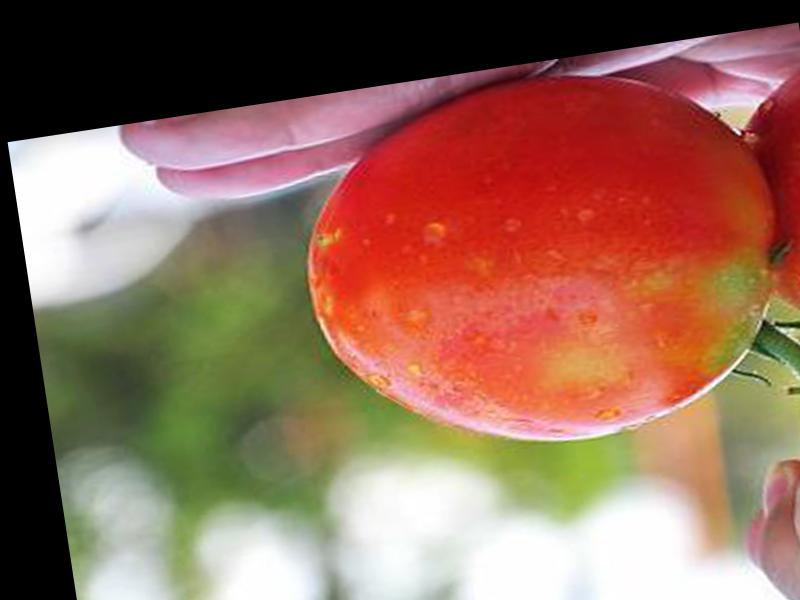Tomato: (286, 49, 799, 476)
